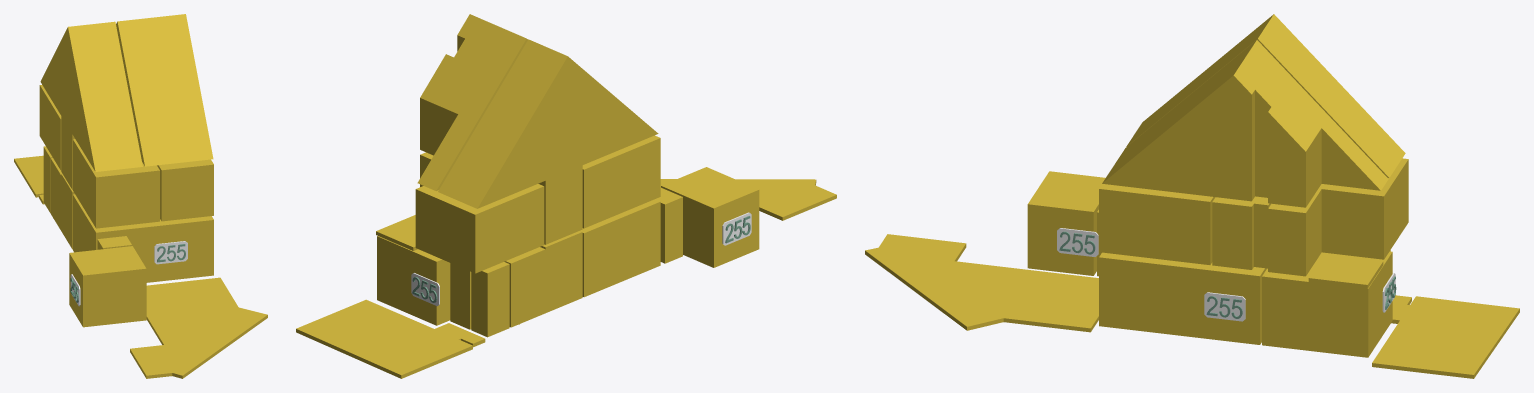
The picture shows the model from 3 angles, left to right: view 1: azimuth 30°, elevation 25°; view 2: azimuth 150°, elevation 25°; view 3: azimuth 270°, elevation 25°; orthographic projection. The views are drawn at different scales.
Parts seen in each view (by area): view 1: g_6, g_7, g_15, g_3, g_0, g_9, g_10, g_8, g_2, g_11, g_17, g_14 (+3 smaller); view 2: g_7, g_6, g_11, g_17, g_2, g_3, g_0, g_9, g_8, g_1, g_5, g_15 (+5 smaller); view 3: g_6, g_15, g_0, g_11, g_1, g_17, g_10, g_7, g_3, g_13, g_16, g_25 (+2 smaller).
Part boxes in pixels (left/top/right/bottom): g_6: left=116, top=14, right=213, bottom=166; g_7: left=40, top=21, right=142, bottom=171; g_15: left=130, top=277, right=267, bottom=378; g_3: left=69, top=246, right=146, bottom=327; g_0: left=73, top=194, right=213, bottom=282; g_9: left=73, top=139, right=159, bottom=228; g_10: left=157, top=159, right=213, bottom=221; g_8: left=61, top=24, right=95, bottom=133; g_2: left=50, top=158, right=74, bottom=249; g_11: left=39, top=85, right=61, bottom=170; g_17: left=14, top=155, right=44, bottom=204; g_14: left=61, top=117, right=74, bottom=189; g_7: left=438, top=39, right=658, bottom=208; g_6: left=417, top=14, right=527, bottom=190; g_11: left=415, top=152, right=544, bottom=273; g_17: left=296, top=299, right=485, bottom=378; g_2: left=450, top=231, right=582, bottom=329; g_3: left=661, top=167, right=759, bottom=267; g_0: left=580, top=199, right=660, bottom=297; g_9: left=582, top=135, right=660, bottom=228; g_8: left=528, top=48, right=582, bottom=180; g_1: left=377, top=236, right=450, bottom=325; g_5: left=471, top=262, right=509, bottom=337; g_15: left=660, top=179, right=836, bottom=220; g_6: left=1102, top=40, right=1388, bottom=207; g_15: left=865, top=234, right=1098, bottom=332; g_0: left=1099, top=252, right=1266, bottom=344; g_11: left=1268, top=158, right=1408, bottom=276; g_1: left=1262, top=251, right=1392, bottom=357; g_17: left=1372, top=295, right=1519, bottom=378; g_10: left=1099, top=184, right=1215, bottom=264; g_7: left=1126, top=26, right=1405, bottom=177; g_3: left=1027, top=171, right=1105, bottom=275; g_13: left=1212, top=196, right=1270, bottom=269; g_16: left=1308, top=254, right=1383, bottom=288; g_25: left=1057, top=228, right=1098, bottom=256.
Size of the model in its own units: 11.43 by 10.25 by 22.45.
